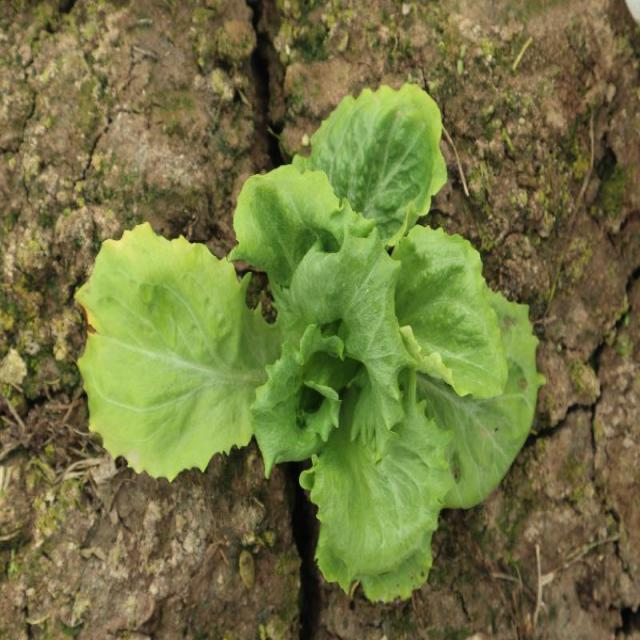crop: (73, 82, 541, 605)
